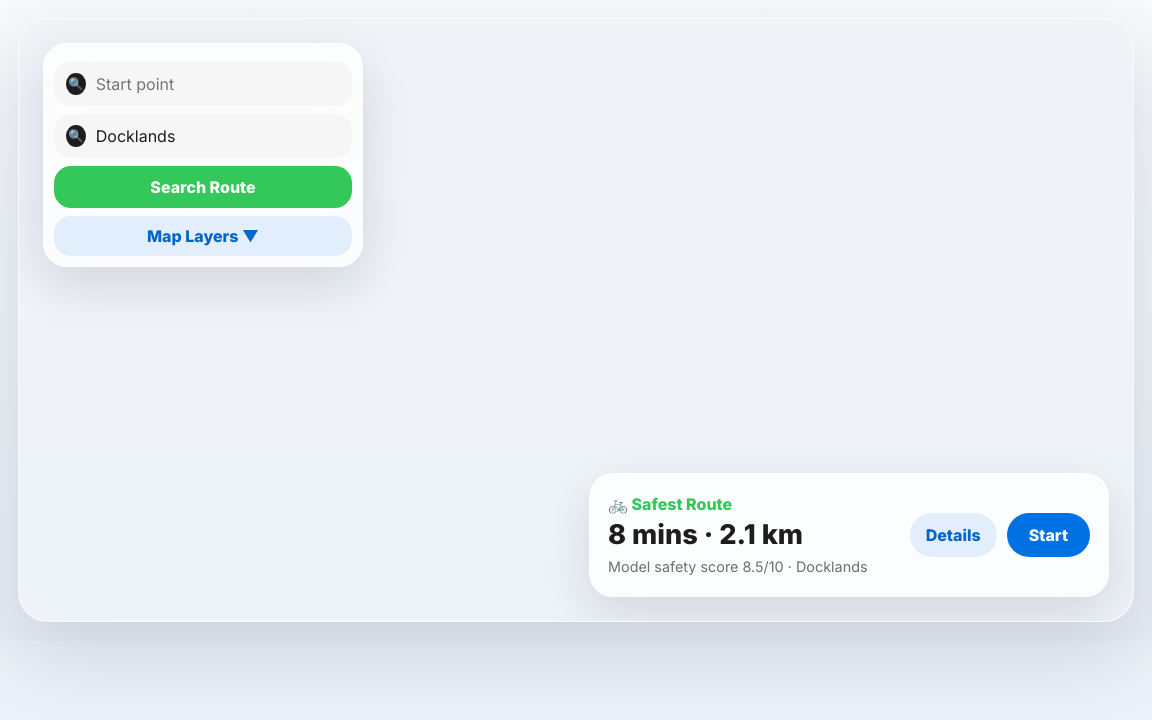
Scenario: ReleaseMapPage › renders richer safety details for a release route query
Click the button with class "detail-toggle" at (953, 535), box [910,513,997,557]
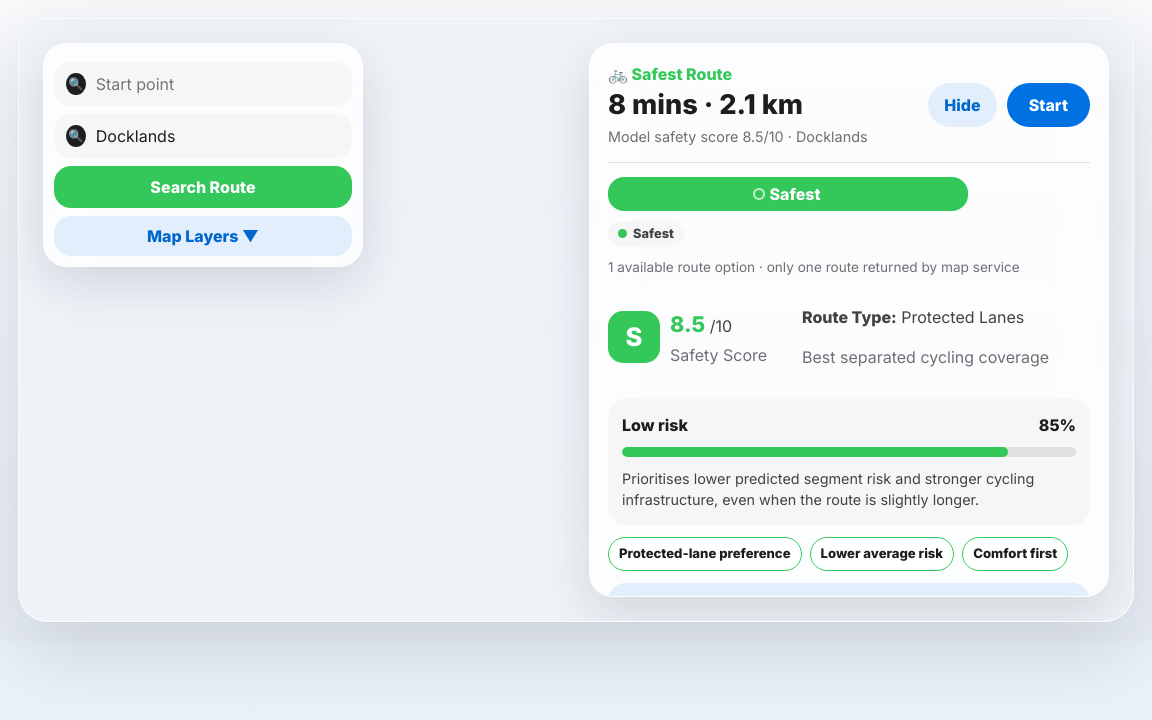
Expected: the text "Low risk" is shown, [622,413,688,437]
